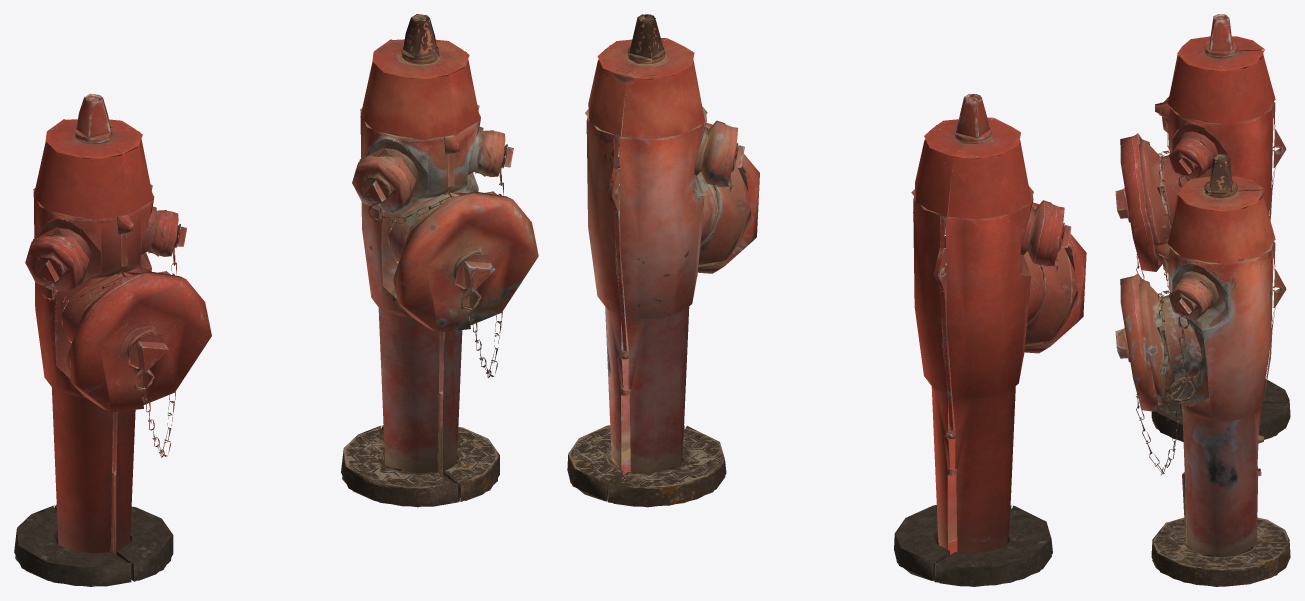
The model's file is fire_hydrant.glb.
3 views of the same model, side by side, from view 1: azimuth 30°, elevation 25°; view 2: azimuth 150°, elevation 25°; view 3: azimuth 270°, elevation 25° (orthographic). The views are drawn at different scales.
Parts seen in each view (by area): view 1: fire_hydrant, fire_hydrant_aged, fire_hydrant_cap_01_aged, fire_hydrant_cap_01, fire_hydrant_cap_03, fire_hydrant_cap_03_aged, fire_hydrant_chain_aged, fire_hydrant_chain, fire_hydrant_cap_02, fire_hydrant_cap_02_aged; view 2: fire_hydrant, fire_hydrant_aged, fire_hydrant_cap_01, fire_hydrant_cap_01_aged, fire_hydrant_cap_03, fire_hydrant_cap_03_aged; view 3: fire_hydrant_aged, fire_hydrant, fire_hydrant_cap_01_aged, fire_hydrant_cap_01, fire_hydrant_chain_aged, fire_hydrant_cap_02_aged, fire_hydrant_cap_02, fire_hydrant_chain.
Part boxes in pixels (x1,y1,x2,y2): fire_hydrant: [14, 93, 173, 586]; fire_hydrant_aged: [341, 14, 499, 507]; fire_hydrant_cap_01_aged: [393, 191, 538, 332]; fire_hydrant_cap_01: [66, 271, 211, 412]; fire_hydrant_cap_03: [25, 235, 84, 292]; fire_hydrant_cap_03_aged: [352, 155, 410, 212]; fire_hydrant_chain_aged: [367, 147, 504, 377]; fire_hydrant_chain: [41, 226, 177, 457]; fire_hydrant_cap_02: [159, 211, 186, 256]; fire_hydrant_cap_02_aged: [486, 131, 513, 176]; fire_hydrant: [894, 94, 1077, 586]; fire_hydrant_aged: [567, 14, 750, 507]; fire_hydrant_cap_01: [1024, 202, 1086, 353]; fire_hydrant_cap_01_aged: [698, 122, 759, 273]; fire_hydrant_cap_03: [1042, 204, 1071, 265]; fire_hydrant_cap_03_aged: [715, 124, 744, 186]; fire_hydrant_aged: [1139, 154, 1290, 586]; fire_hydrant: [1139, 14, 1290, 441]; fire_hydrant_cap_01_aged: [1115, 273, 1161, 411]; fire_hydrant_cap_01: [1115, 133, 1161, 271]; fire_hydrant_chain_aged: [1136, 290, 1195, 475]; fire_hydrant_cap_02_aged: [1169, 282, 1208, 320]; fire_hydrant_cap_02: [1169, 142, 1208, 179]; fire_hydrant_chain: [1136, 150, 1194, 280].
Size of the model in its own units: 0.8742 by 0.8002 by 0.3173.
2 materials, 2 textured.
